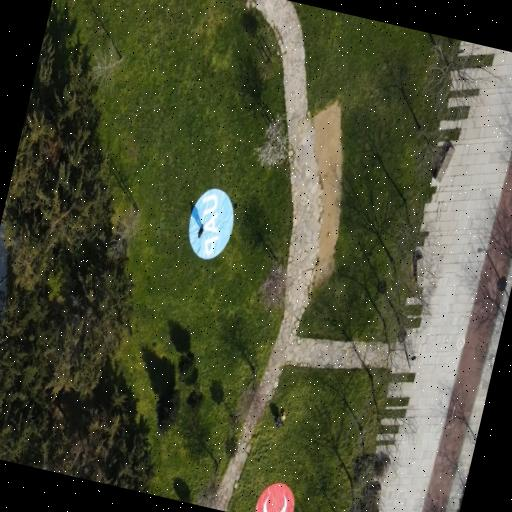UAI: (255, 483, 294, 512)
UAP: (189, 189, 233, 260)
person: (198, 224, 204, 237)
